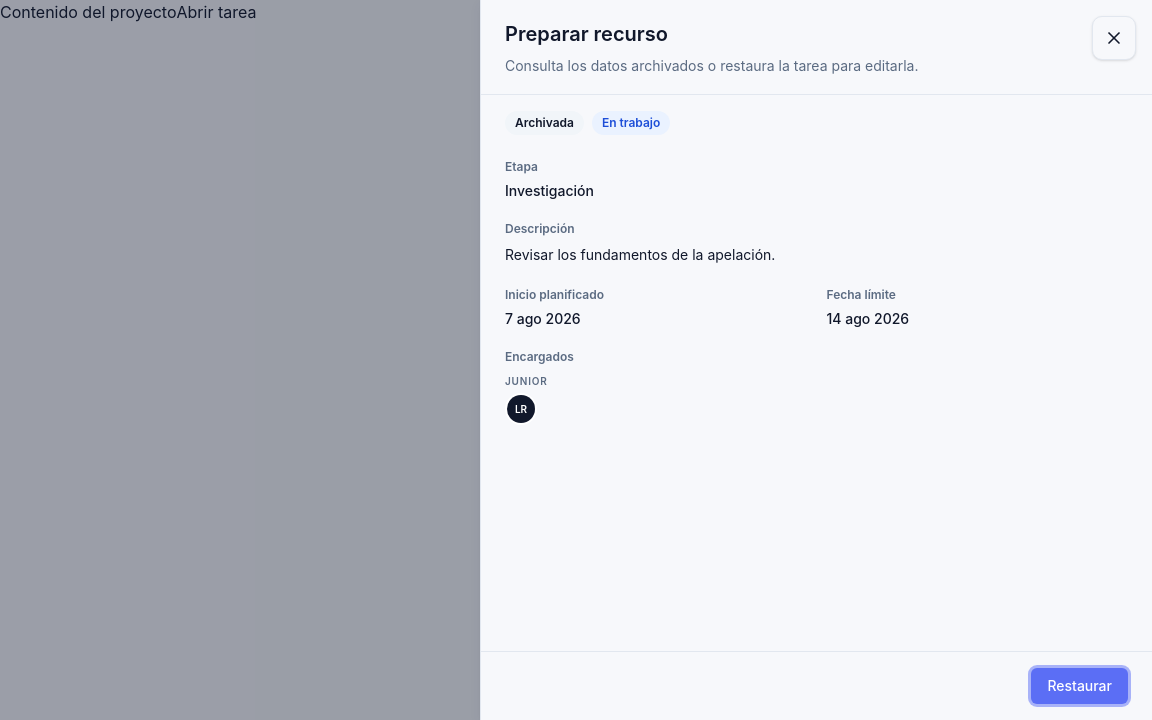
Test case: ProjectTaskSheet › does not cache retained stale data when a restore-conflict refetch fails
The image size is (1152, 720).
What coordinates should you click on to do the following:
click the button "Restaurar"
I would click on:
 (1080, 686)
Its box is x1=1031 y1=668 x2=1128 y2=704.
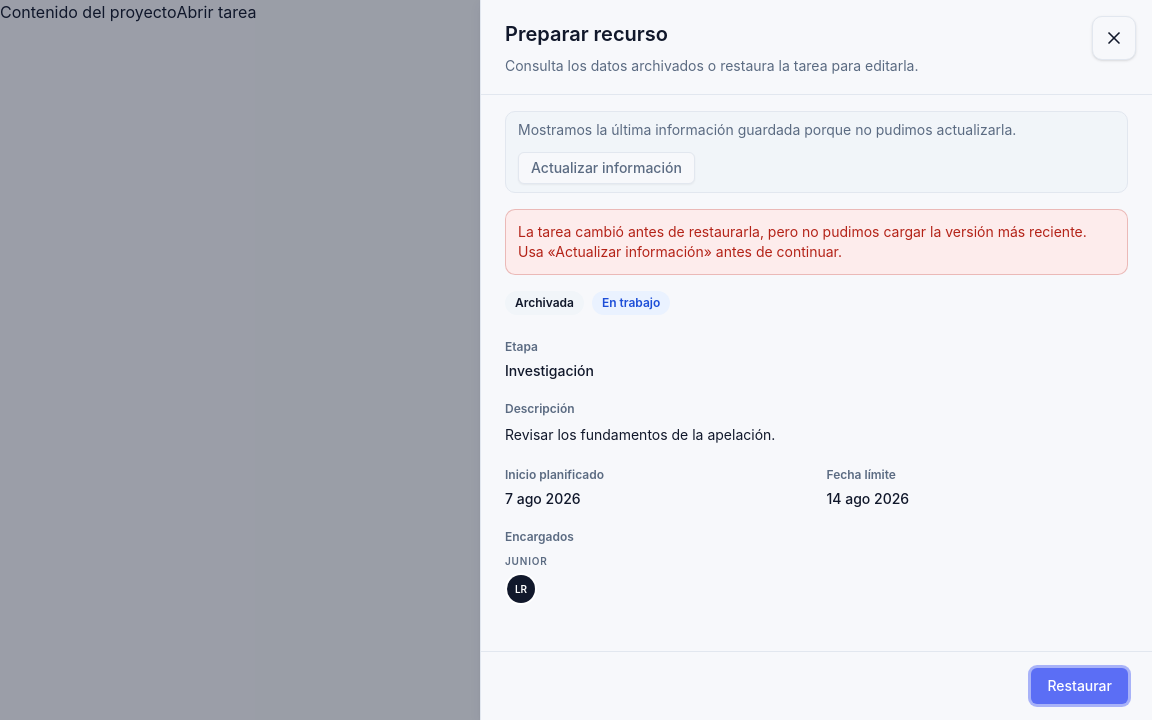
Expected: the text "Archivada" is shown, x1=505 y1=291 x2=584 y2=315
Now the 2nd message shows "La tarea cambió antes de restaurarla, pero no pudimos cargar la versión más reciente. Usa «Actualizar información» antes de continuar.", box x1=518 y1=223 x2=1087 y2=260
Now the button "Actualizar información" is enabled, box x1=518 y1=152 x2=695 y2=184
